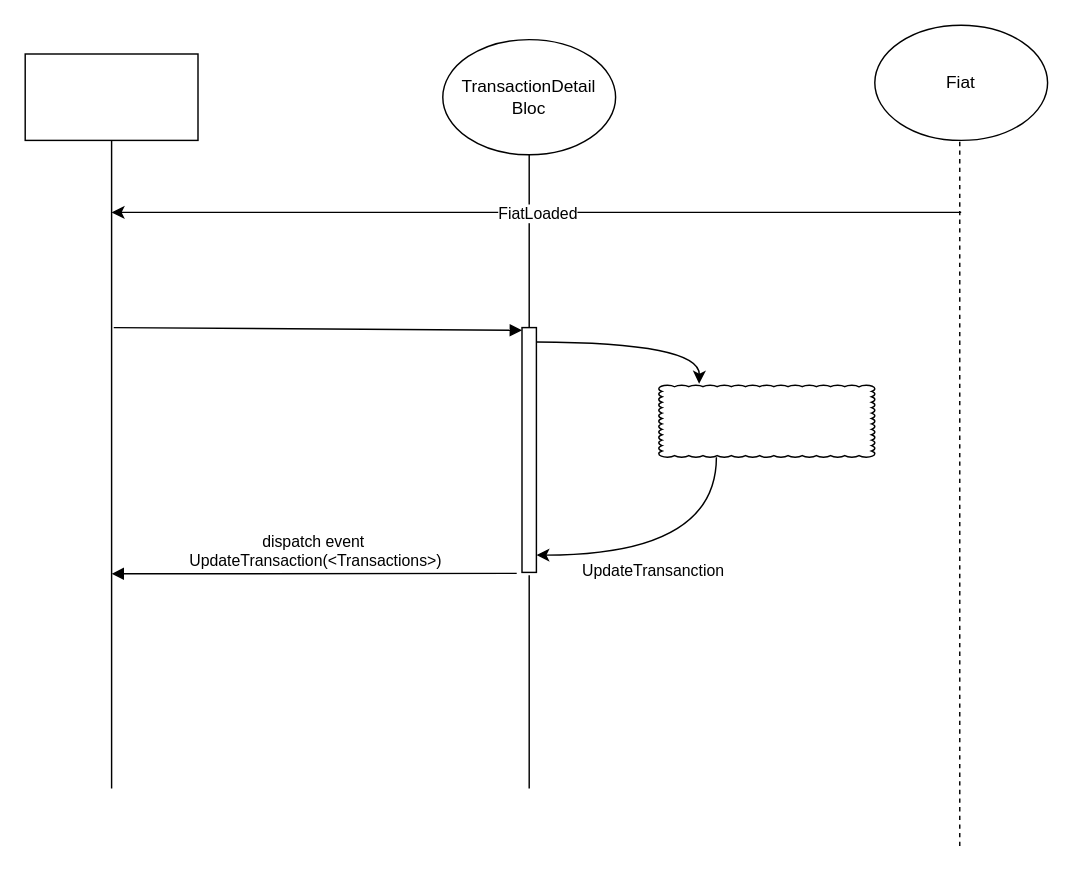
The diagram is 1073 pixels wide and 873 high, and some of its shapes have lost their labels. The centre of each missing label's shape, as x and y in pixels:
Listener: the point at 766,420
TransactionDetail Screen: the point at 111,96
